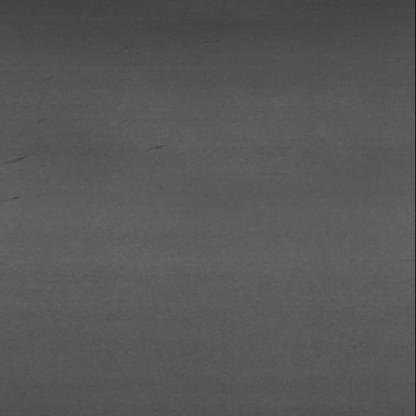water_spot: (146, 134, 178, 156), (4, 150, 32, 166), (5, 192, 22, 205)
